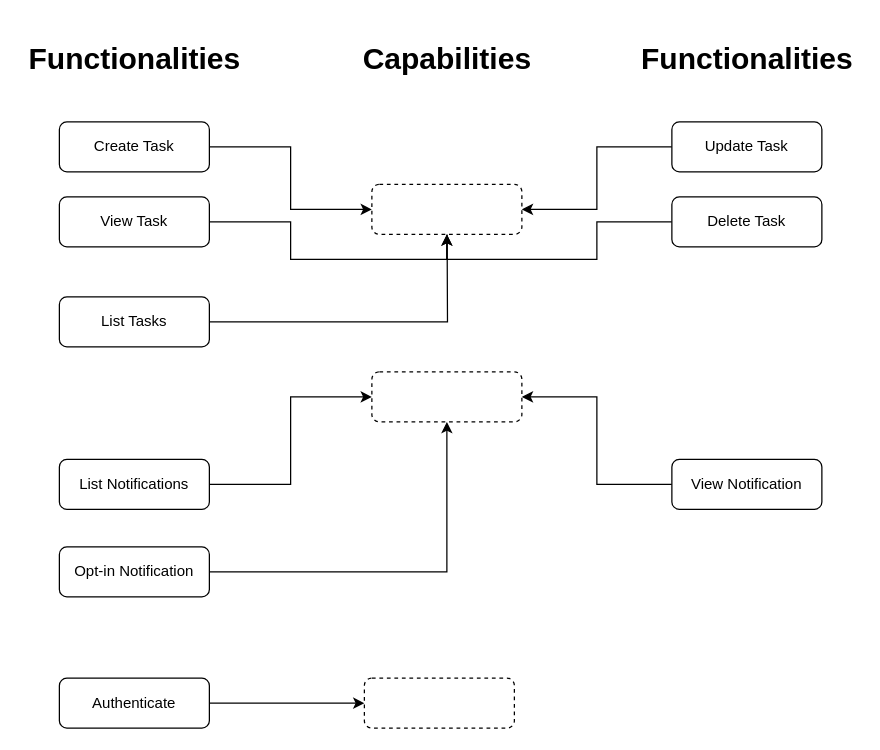
The diagram is 880 pixels wide and 750 high, and some of its shapes have lost their labels. The centre of each missing label's shape, as x and y in pixels:
"Authorization Management" goes at point 438,702.
"Notification Management" goes at point 446,396.
"Task Management" goes at point 446,208.
